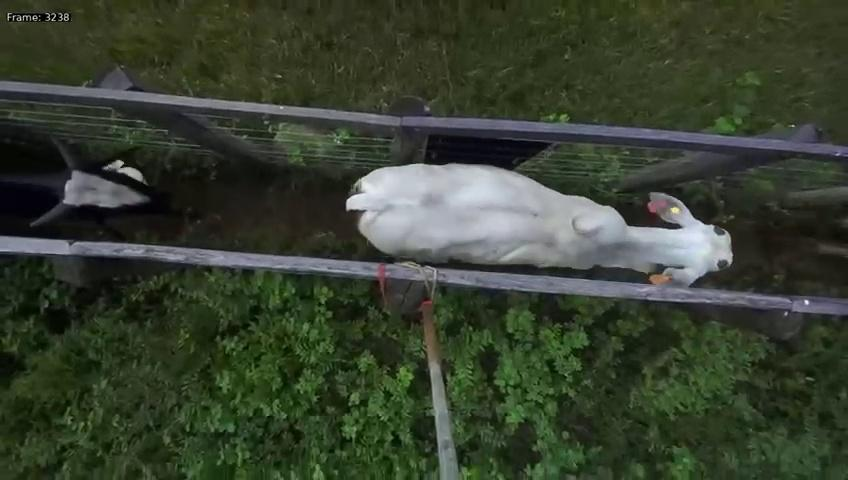cattle: (339, 154, 736, 297)
